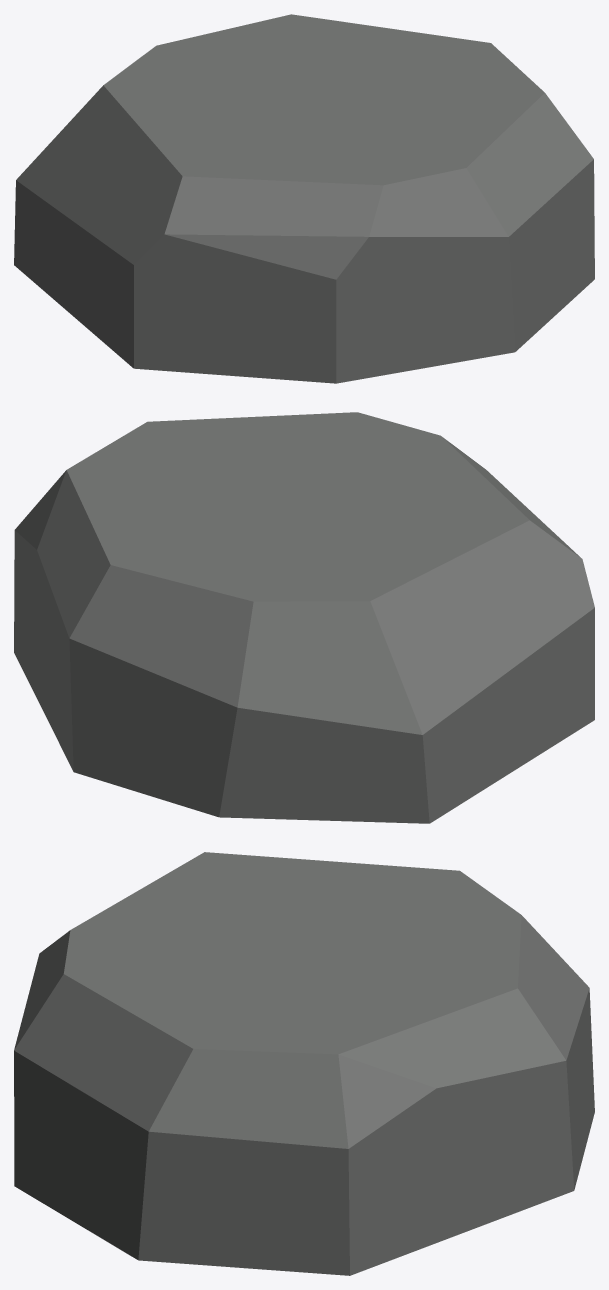
File: Stone 3.fbx
3 views of the same model, one above another, from view 1: azimuth 30°, elevation 25°; view 2: azimuth 150°, elevation 25°; view 3: azimuth 270°, elevation 25° (orthographic). The views are drawn at different scales.
Visible parts, largest first — view 1: Stone 3; view 2: Stone 3; view 3: Stone 3.
Boxes of the visible parts, box(x1,y1,x2,y2) form: Stone 3: box(14, 14, 594, 383); Stone 3: box(14, 412, 594, 823); Stone 3: box(14, 852, 594, 1275).
Size of the model in its own units: 59.08 by 21.24 by 56.59.
